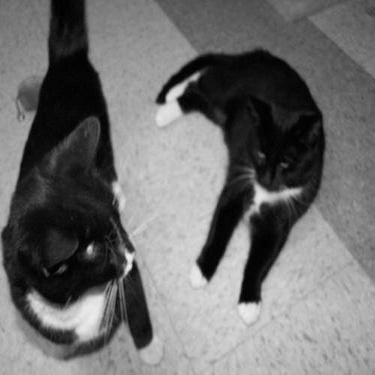cat: (147, 31, 344, 344), (1, 10, 160, 355)
